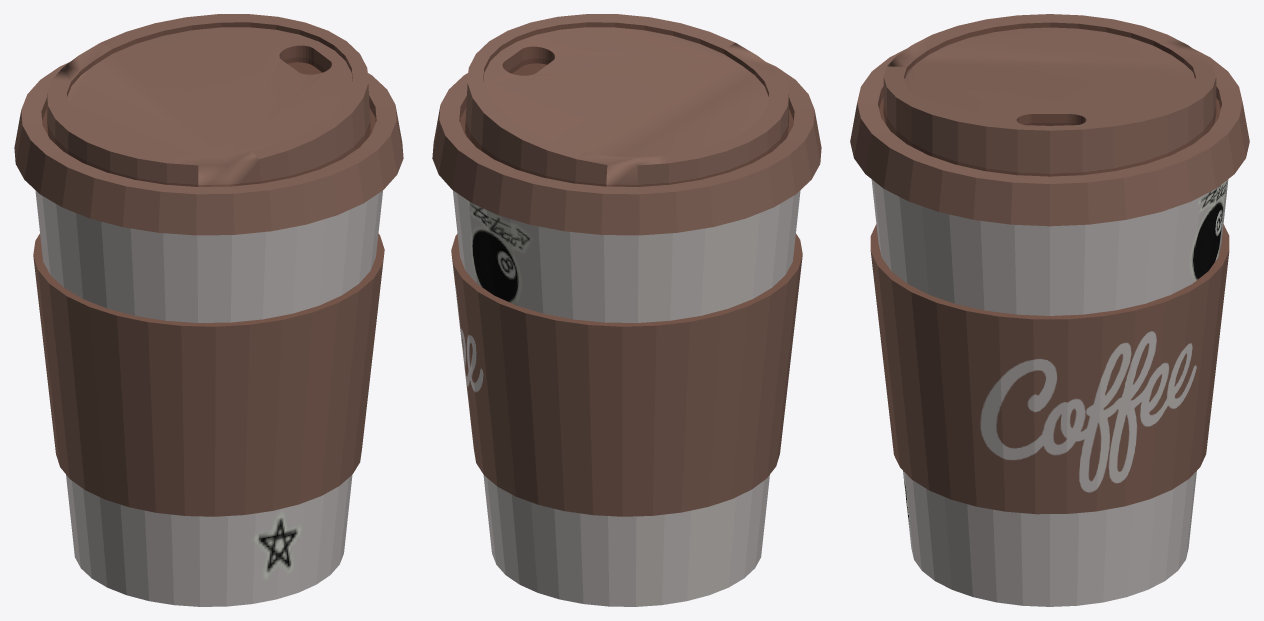
The model's file is my coffeeeeeee xO.glb.
3 views of the same model, side by side, from view 1: azimuth 30°, elevation 25°; view 2: azimuth 150°, elevation 25°; view 3: azimuth 270°, elevation 25° (orthographic). The views are drawn at different scales.
Parts seen in each view (by area): view 1: Cylinder.002, Cylinder.001, Cylinder; view 2: Cylinder.002, Cylinder.001, Cylinder; view 3: Cylinder.002, Cylinder.001, Cylinder.
Part boxes in pixels (bbox=[...]): Cylinder.002: bbox=[14, 14, 403, 235]; Cylinder.001: bbox=[33, 233, 384, 516]; Cylinder: bbox=[35, 190, 382, 606]; Cylinder.002: bbox=[432, 14, 821, 235]; Cylinder.001: bbox=[451, 234, 802, 516]; Cylinder: bbox=[453, 190, 800, 606]; Cylinder.002: bbox=[850, 14, 1249, 226]; Cylinder.001: bbox=[870, 224, 1229, 514]; Cylinder: bbox=[871, 179, 1228, 606].
Size of the model in its own units: 0.1442 by 0.1937 by 0.1442.
Materials: 3 (3 with a texture image).
